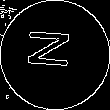N_E: (29, 33, 81, 77)
